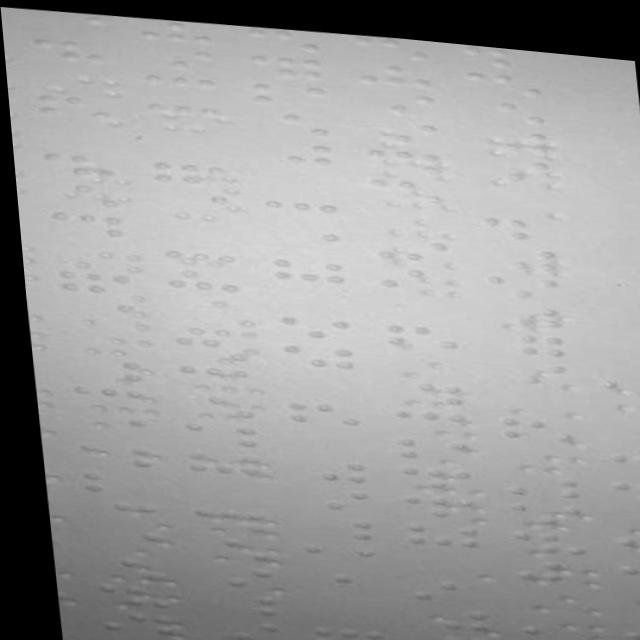braiile: (133, 13, 219, 44), (264, 248, 343, 281), (290, 533, 372, 564), (352, 50, 433, 81), (460, 59, 545, 88), (136, 67, 217, 97), (247, 73, 325, 104), (45, 208, 123, 239), (466, 87, 549, 116), (60, 382, 143, 411), (165, 328, 242, 359), (349, 26, 431, 55), (354, 80, 436, 109), (247, 103, 329, 132), (260, 190, 342, 219), (56, 353, 138, 382), (194, 610, 272, 640), (30, 34, 108, 64), (192, 585, 269, 615), (139, 40, 218, 69), (499, 517, 577, 546), (380, 398, 458, 427), (249, 45, 327, 74), (252, 132, 330, 161), (262, 220, 340, 249), (287, 476, 365, 505), (189, 557, 267, 586), (53, 296, 131, 325), (28, 9, 106, 38), (479, 262, 556, 291), (270, 306, 347, 335), (148, 185, 225, 214), (158, 272, 235, 301), (75, 523, 152, 552), (477, 232, 553, 261), (287, 507, 365, 535), (395, 511, 470, 540), (245, 20, 322, 48), (275, 335, 352, 363), (175, 417, 252, 445), (482, 320, 559, 347), (285, 451, 362, 478), (387, 428, 464, 454), (601, 465, 640, 493), (607, 548, 640, 575), (611, 630, 640, 640)
